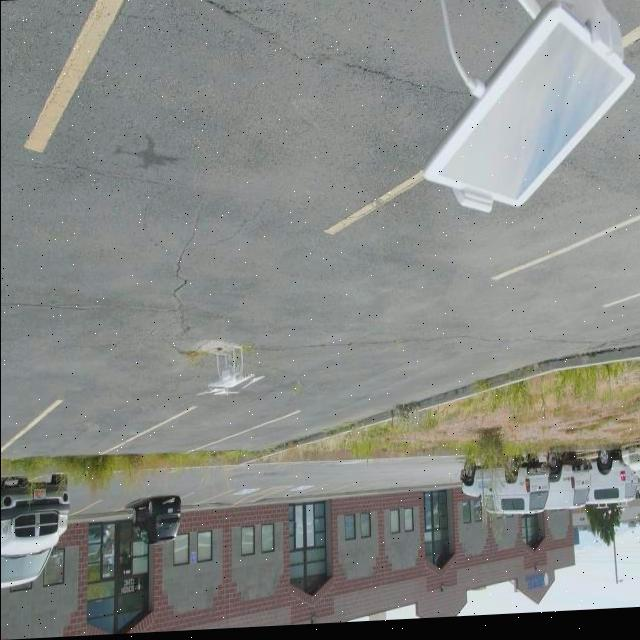drone: (199, 346, 257, 404)
